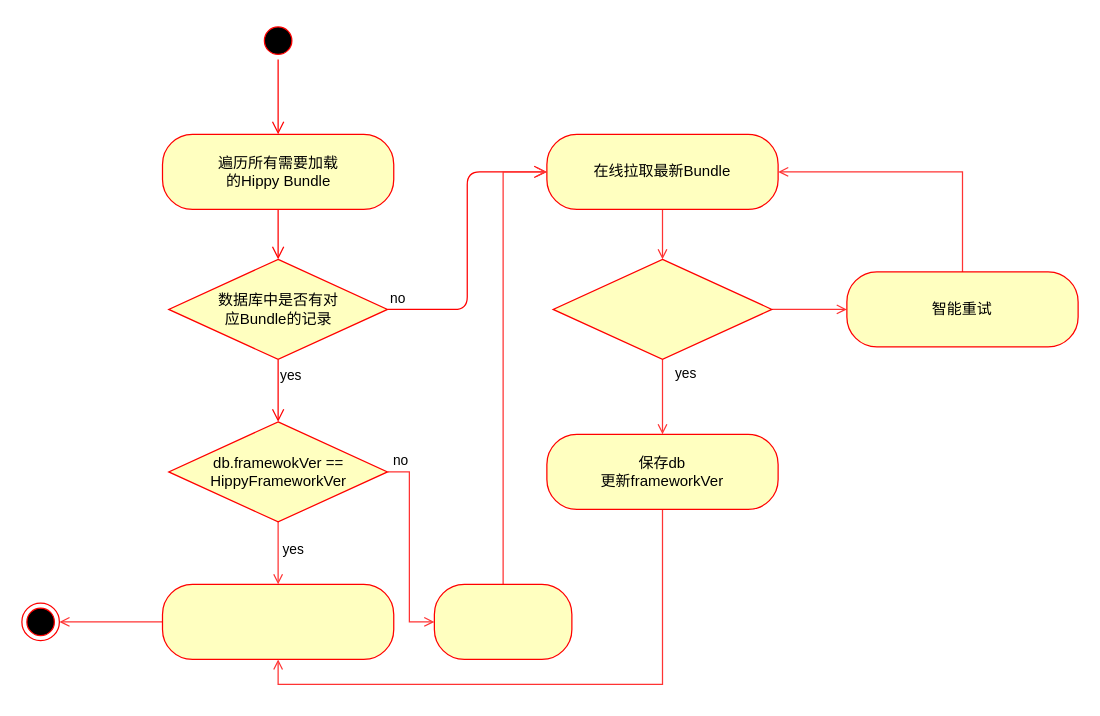
Image size: 1100x716. Some labels were removed from this diagram. Each missing label, with the box of its shape:
使用本地HippyBundle: (161, 583, 394, 659)
删除db数据 和旧bundle: (433, 583, 572, 659)
是否拉取成功: (552, 258, 772, 359)
